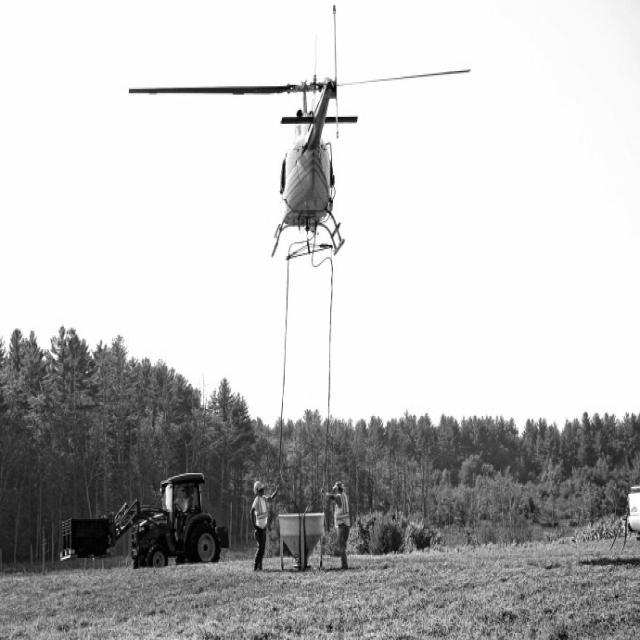helicopter: (127, 10, 475, 259)
